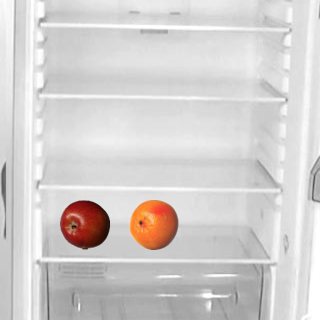Apple Braeburn: (59, 199, 109, 249)
Grapefruit Pink: (128, 199, 178, 249)
